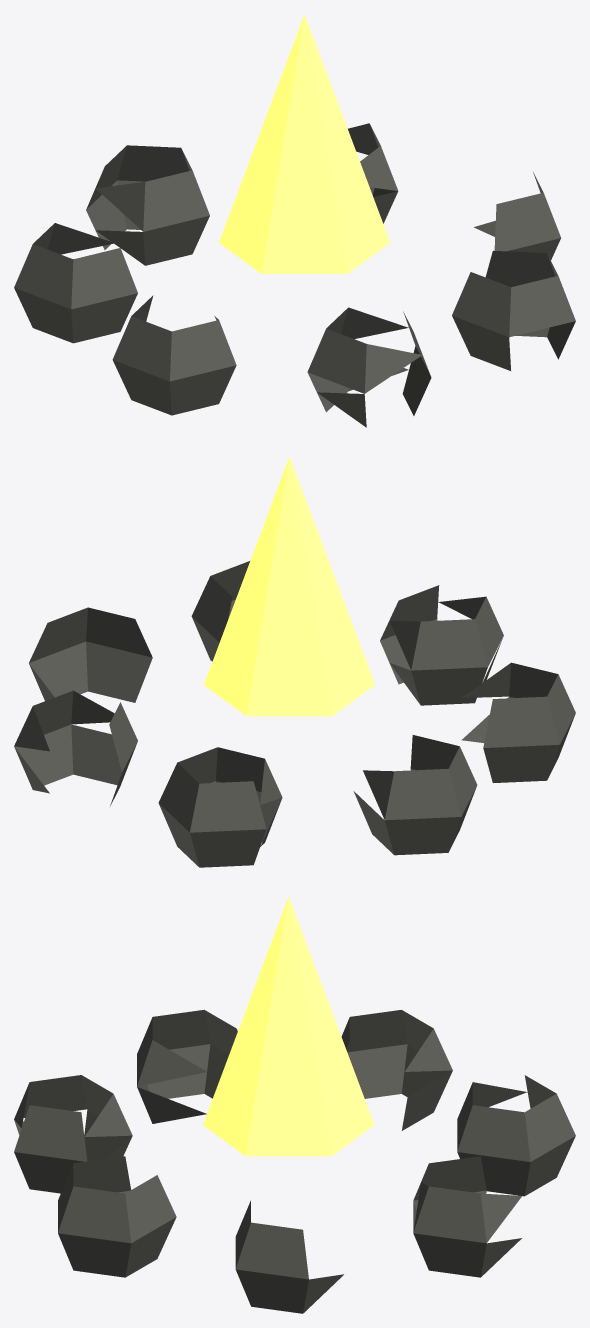
File: prop_campfire_lod1.glb
3 renders of one model, top to bottom at view 1: azimuth 30°, elevation 25°; view 2: azimuth 150°, elevation 25°; view 3: azimuth 270°, elevation 25°, orthographic.
Parts seen in each view (by area): view 1: prop_campfire_lod1; view 2: prop_campfire_lod1; view 3: prop_campfire_lod1.
Part boxes in pixels (<box>): prop_campfire_lod1: <box>14,14,575,427</box>; prop_campfire_lod1: <box>14,457,575,867</box>; prop_campfire_lod1: <box>14,896,575,1313</box>.
Size of the model in its own units: 1.1 by 0.6619 by 1.11.
